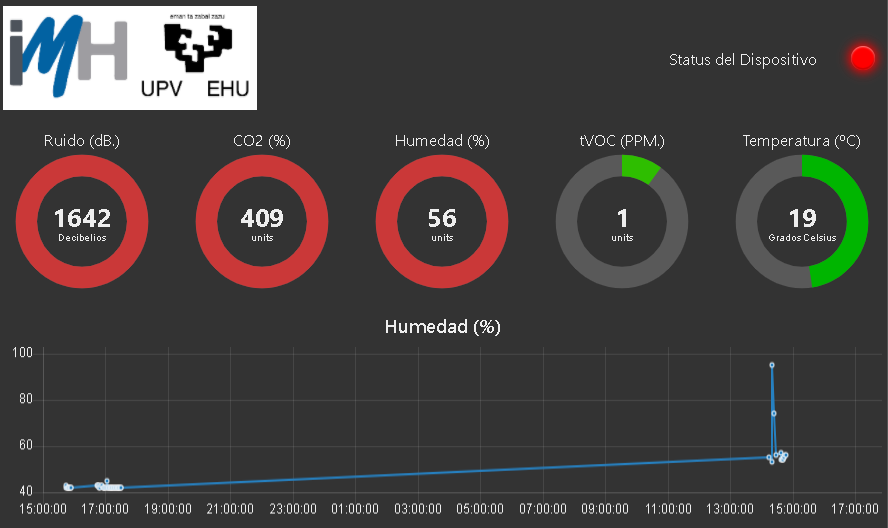

Layout of this report page (visuals, bound fields, positions):
{"tool":"tableau","page":{"name":"Dashboard 1","canvas":[1000,800],"ordinal":0},"visuals":[{"type":"worksheet","box":[0,0,1000,800]},{"type":"worksheet","title":"Hoja 3","mark":"Automatic","rows":["Temperatura (ºC)"],"cols":["Timestamp"],"box":[8,8,492,392]},{"type":"worksheet","title":"Hoja 4","mark":"Line","rows":["Presión atmosférica (mbar)"],"cols":["Timestamp"],"box":[500,8,492,392]},{"type":"worksheet","title":"Hoja 1","mark":"Line","rows":["Humedad (%)"],"cols":["Timestamp"],"box":[8,400,492,392]},{"type":"worksheet","title":"Hoja 2","mark":"Area","rows":["Nubes (radiación solar)"],"cols":["Timestamp"],"box":[500,400,492,392]}]}

Visuals, with their boxes on the page's 1000x800 design canvas (x1, y1, x2, y2). These are canvas units, not pixel positions in the 888x528 screenshot, which may show the page scaled, cropped or inside an application window:
worksheet: Rect(0, 0, 1000, 800)
"Hoja 3" worksheet: Rect(8, 8, 500, 400)
"Hoja 4" worksheet (Line marks): Rect(500, 8, 992, 400)
"Hoja 1" worksheet (Line marks): Rect(8, 400, 500, 792)
"Hoja 2" worksheet (Area marks): Rect(500, 400, 992, 792)
